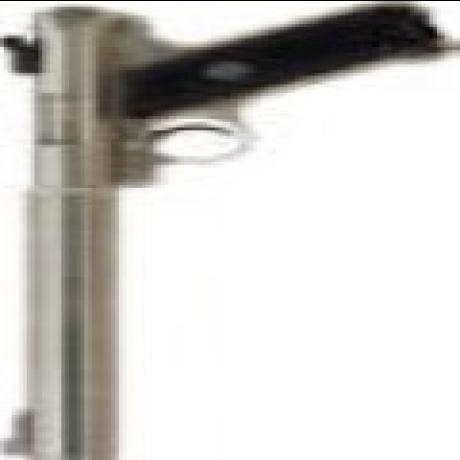weapon: (0, 4, 440, 460)
